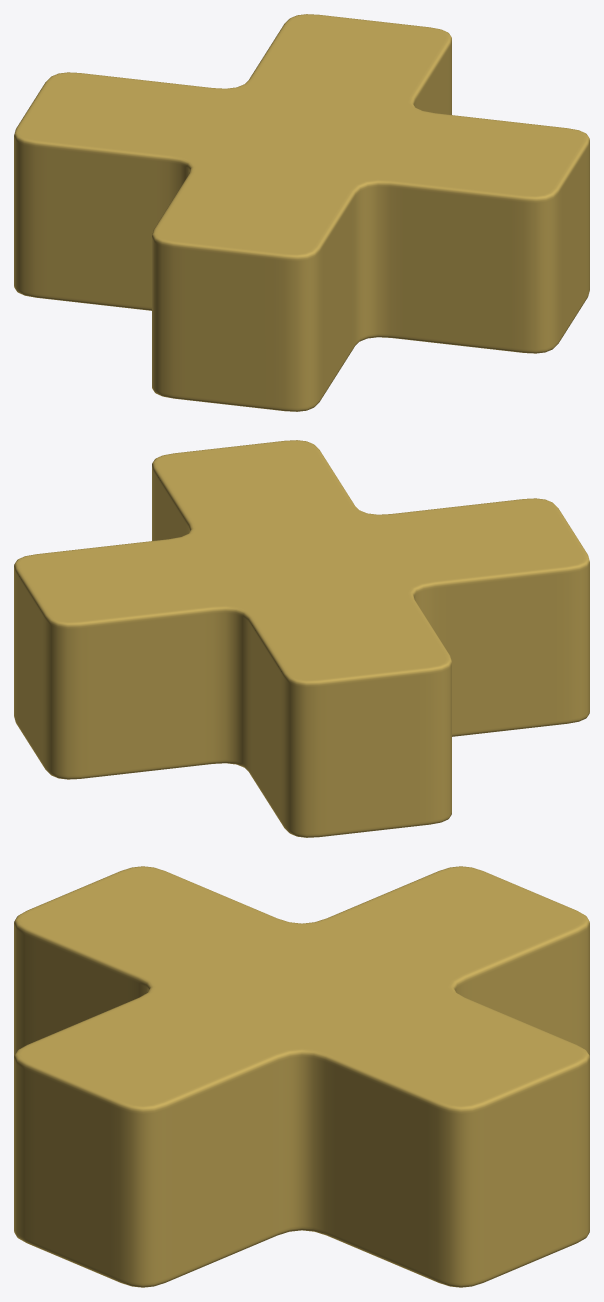
The model's file is TicTacToeX.fbx.
The picture shows the model from 3 angles, top to bottom: view 1: azimuth 30°, elevation 25°; view 2: azimuth 150°, elevation 25°; view 3: azimuth 270°, elevation 25°; orthographic projection. The views are drawn at different scales.
Parts seen in each view (by area): view 1: mark_x; view 2: mark_x; view 3: mark_x.
Part boxes in pixels (x1=…): mark_x: x1=14, y1=14, x2=589, y2=411; mark_x: x1=14, y1=440, x2=589, y2=837; mark_x: x1=14, y1=866, x2=589, y2=1287.
Bounding box in the file's own units: 8.99 × 3.1 × 8.99.
